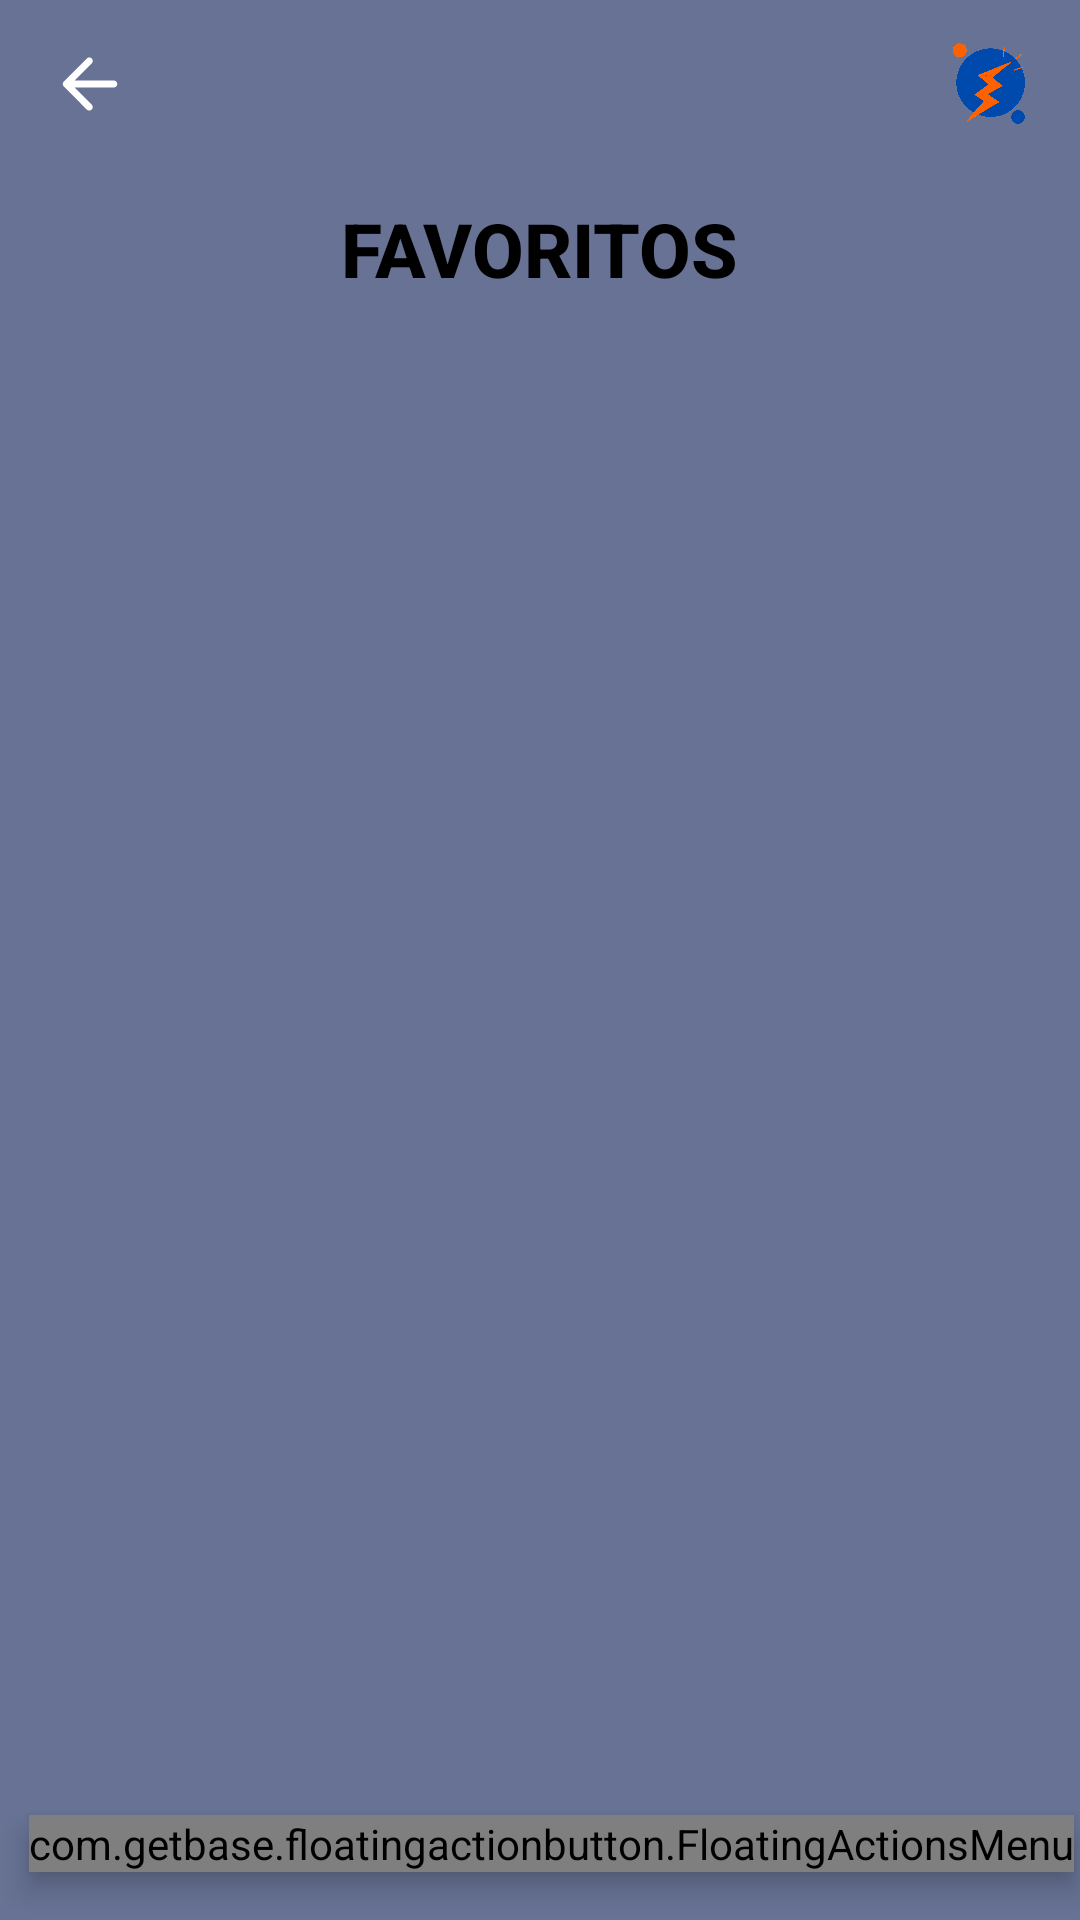

Where to tap for icons on this 1080x1920 app screen, as (x=x, y=y):
arrow back: (x=90, y=84)
